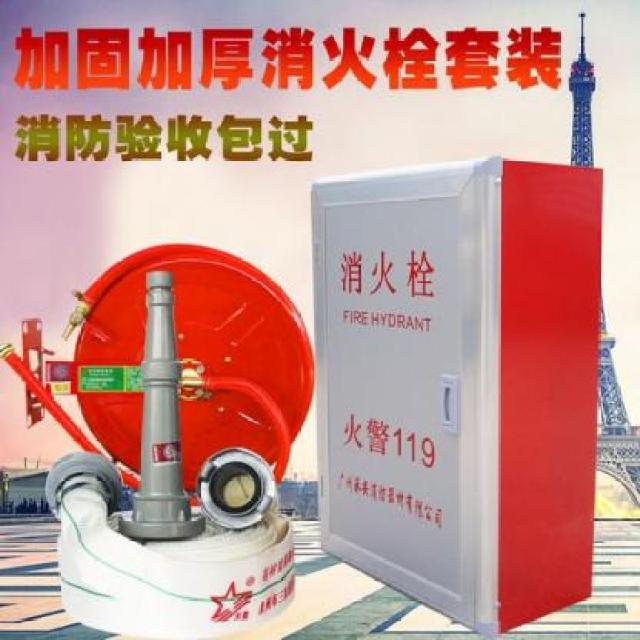firehydrant: (307, 149, 608, 640)
